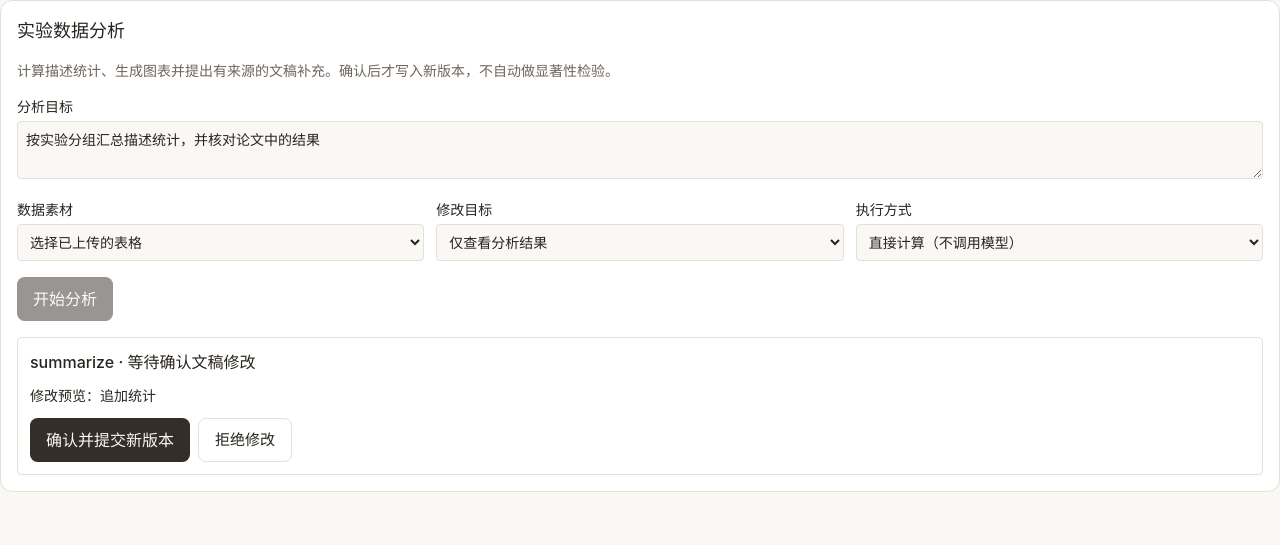
Test: keeps conflict errors visible without claiming a successful commit
Click the button "确认并提交新版本" at (110, 440), box [30,418,190,462]
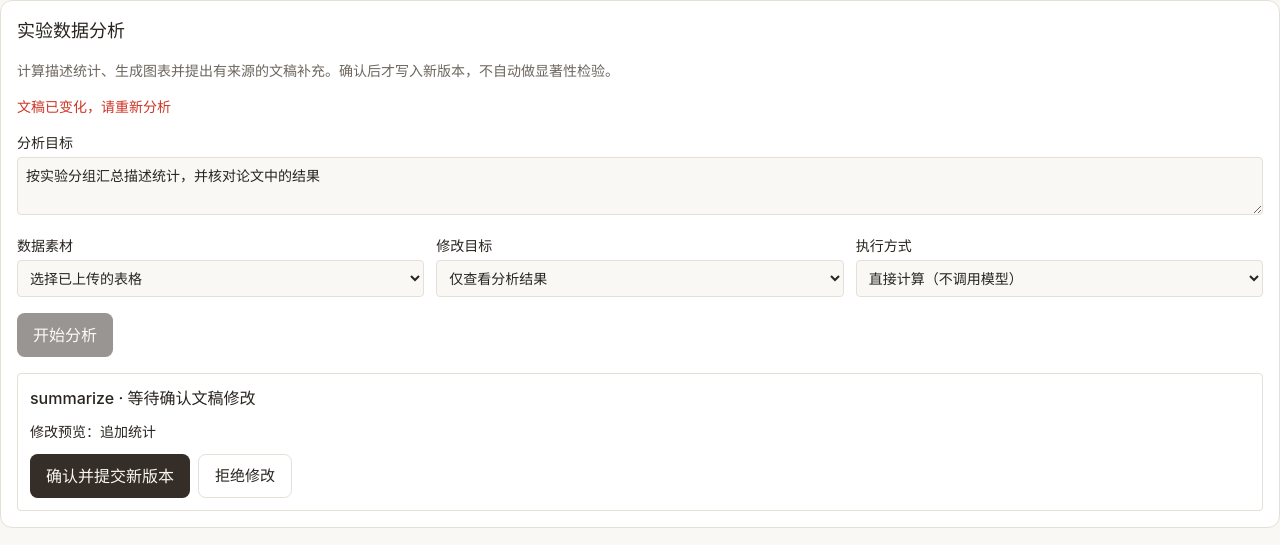
Expected: the message shows "文稿已变化", [17,98,171,115]
